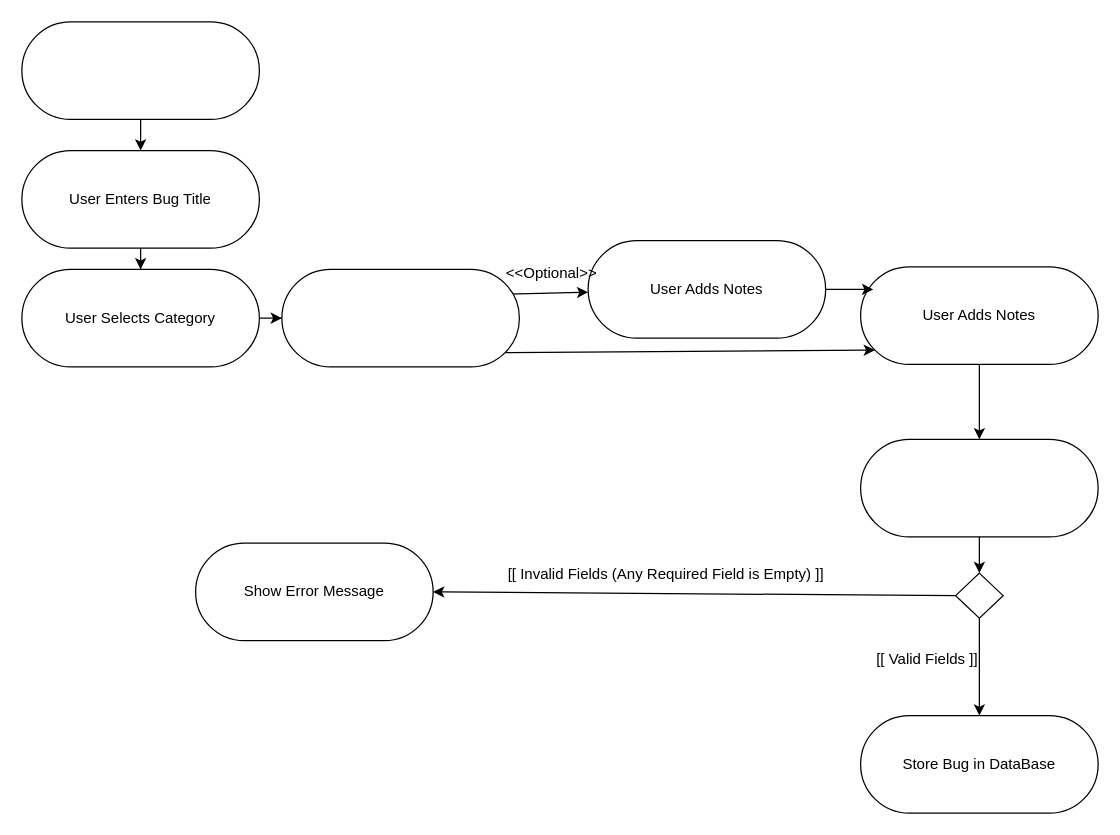
The diagram is 1120 pixels wide and 835 high, and some of its shapes have lost their labels. Each missing label, with the centre of its shape:
User on "Create Bug" UI: (x=140, y=70)
User Selects Priority Level: (x=400, y=317)
Validate Required Fields: (x=978, y=487)
